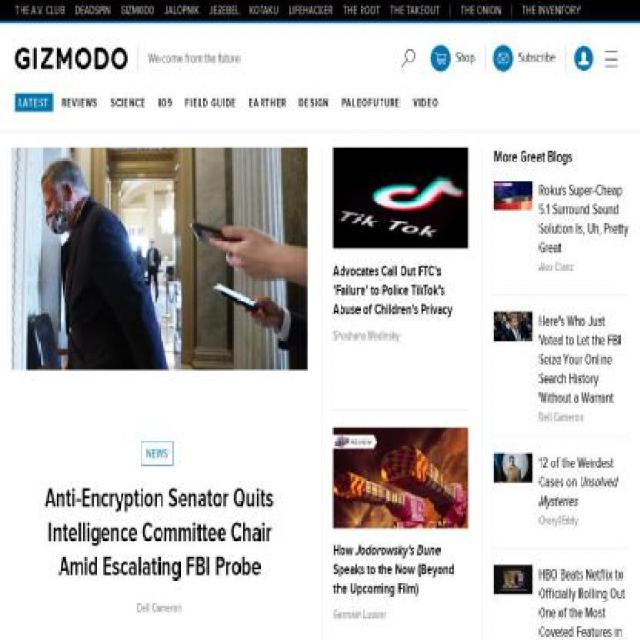button: (33, 482, 285, 586), (538, 310, 628, 408), (15, 23, 128, 94), (333, 261, 469, 319), (333, 540, 469, 598), (538, 180, 628, 258), (538, 566, 630, 640), (538, 453, 628, 512), (489, 40, 571, 77), (427, 40, 490, 77), (538, 258, 628, 278), (538, 408, 628, 428), (538, 511, 628, 531), (333, 325, 399, 346), (338, 93, 404, 112), (181, 93, 241, 112), (494, 564, 532, 594), (494, 181, 532, 210), (494, 312, 532, 341), (494, 453, 532, 482), (333, 606, 387, 626), (395, 40, 422, 77), (598, 40, 625, 77), (140, 441, 178, 467), (137, 598, 181, 619), (244, 93, 290, 112), (106, 93, 151, 112), (58, 93, 102, 112), (15, 93, 53, 112), (295, 93, 333, 112), (408, 93, 444, 112), (575, 46, 593, 71), (154, 93, 177, 112), (333, 426, 469, 428)
